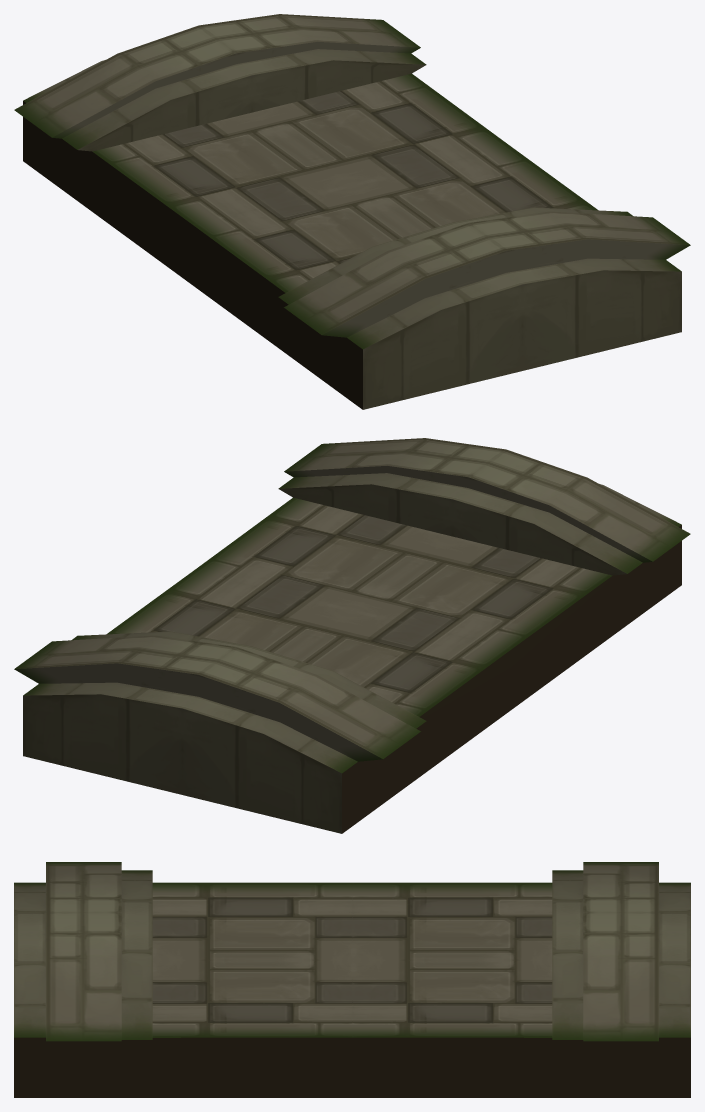
Rendered from s01_bridge.FBX.
The picture shows the model from 3 angles, top to bottom: view 1: azimuth 30°, elevation 25°; view 2: azimuth 150°, elevation 25°; view 3: azimuth 270°, elevation 25°; orthographic projection.
Parts seen in each view (by area): view 1: s01_bridge; view 2: s01_bridge; view 3: s01_bridge.
Boxes of the visible parts, box(x1,y1,x2,y2) form: s01_bridge: box(14, 14, 690, 409); s01_bridge: box(14, 438, 690, 833); s01_bridge: box(14, 862, 690, 1097).
Bounding box in the file's own units: 4.03 × 1.13 × 6.43.
